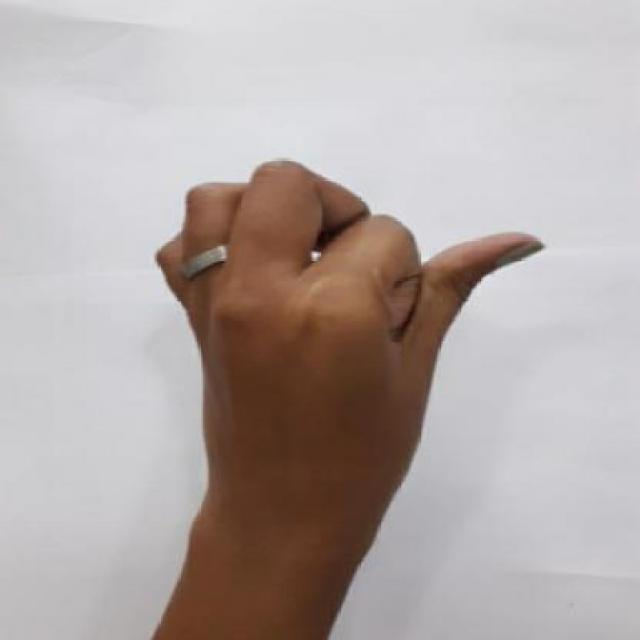without_gloves: (134, 138, 568, 572)
